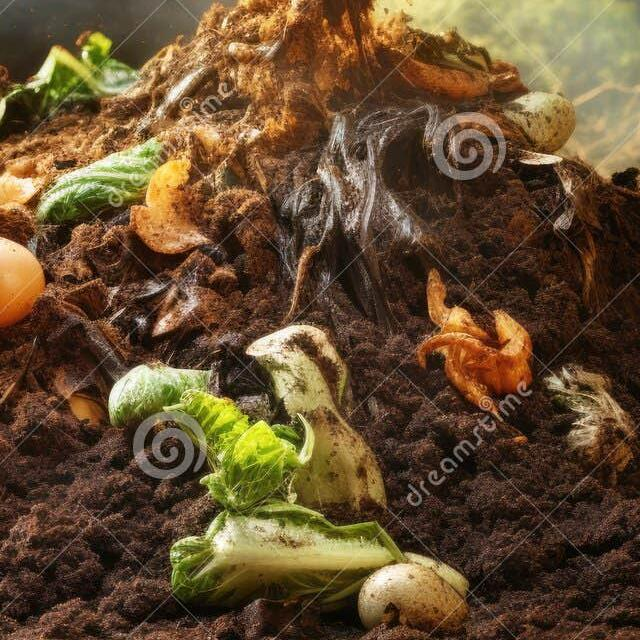food_waste: (96, 366, 378, 542), (0, 110, 235, 270), (240, 50, 416, 235), (0, 24, 180, 143), (512, 462, 632, 629), (320, 516, 453, 637), (432, 290, 550, 408), (0, 398, 49, 639), (0, 212, 91, 340), (504, 74, 608, 160), (594, 224, 640, 388)
